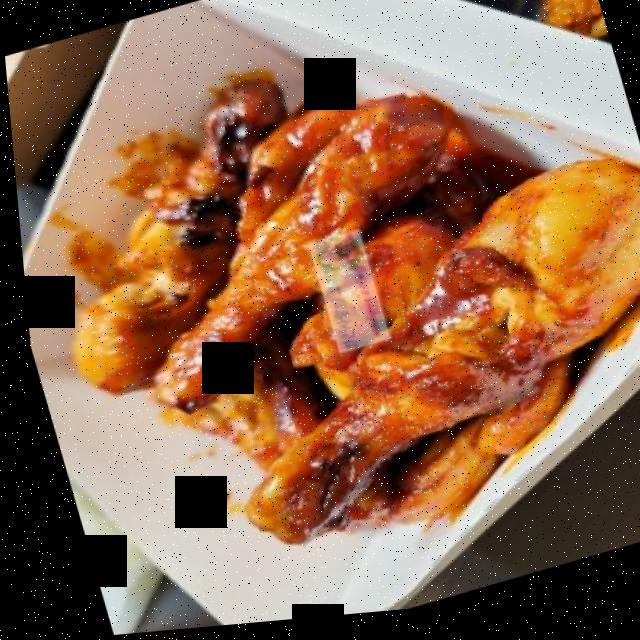Frango: (2, 0, 640, 628)
